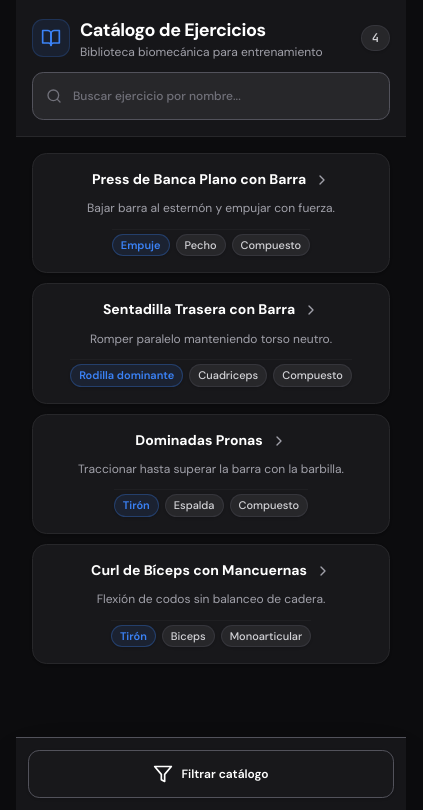
Scenario: T-22: ExerciseCatalogPage con búsqueda y filtros en mitad inferior (RF-04, RF-05, RF-06, CF-06) › 2. Búsqueda y filtrado interactivo en tiempo real (RF-06, CF-06) › filtra ejercicios por texto en tiempo real
Expected: the heading "Press de Banca Plano con Barra" is shown, [92, 170, 306, 189]
Step 1. Type "Sentadilla" into the field with placeholder "Buscar ejercicio por nombre..." → (211, 96), box [32, 72, 390, 120]
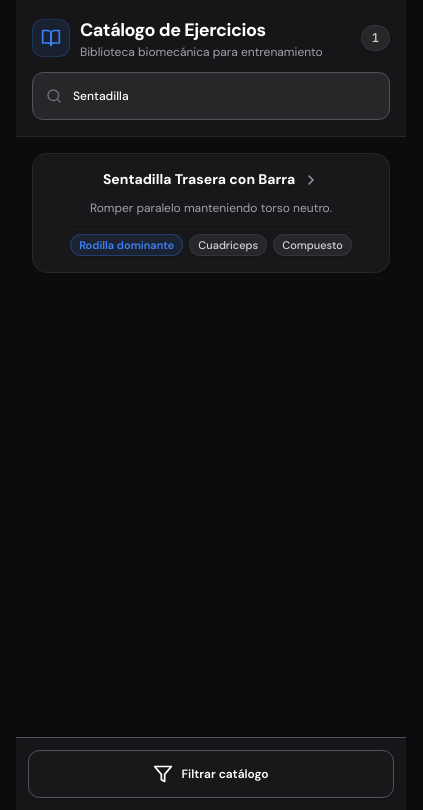
Expected: the heading "Sentadilla Trasera con Barra" is shown, [103, 170, 295, 189]
Expected: the heading "Press de Banca Plano con Barra" is gone
